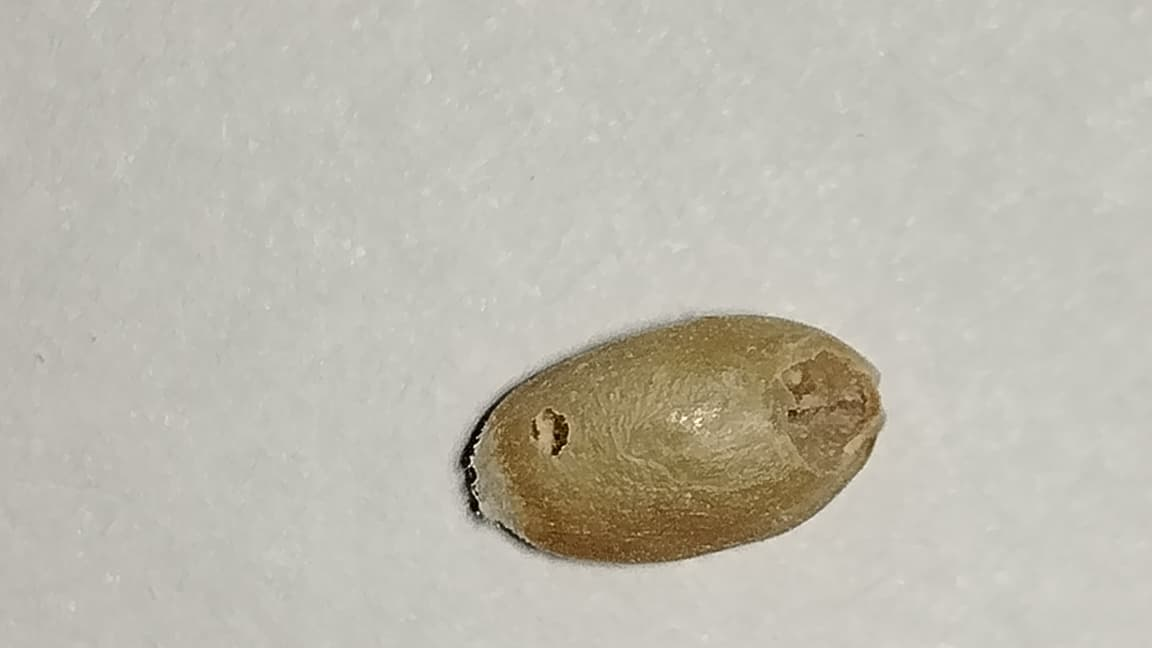damage: (469, 315, 884, 562)
insectdamage: (762, 344, 884, 477), (529, 399, 582, 458)
